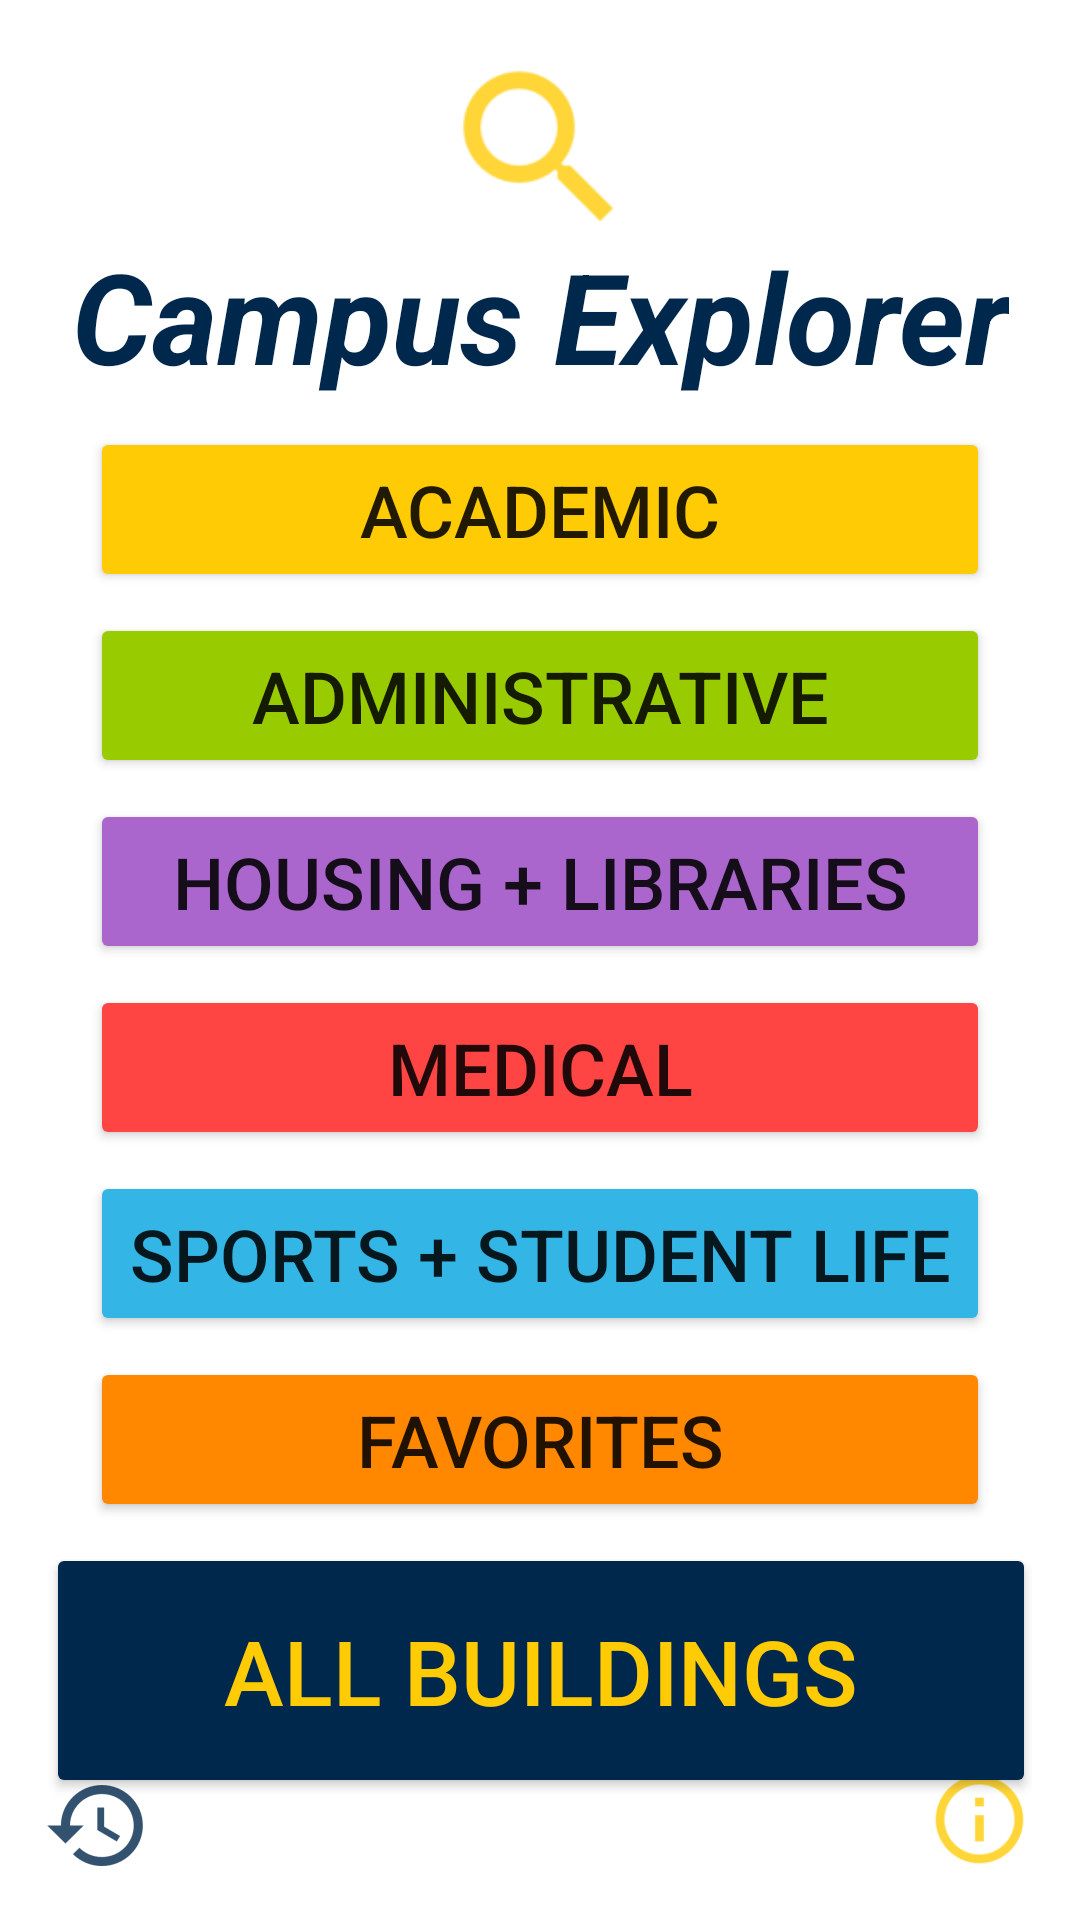

Icons on this 1080 x 1920 Android screen, each with its box as (x1, y1, x2, y2):
info: (927, 1767, 1025, 1864)
restore: (47, 1773, 147, 1866)
search action maize: (463, 71, 613, 221)
